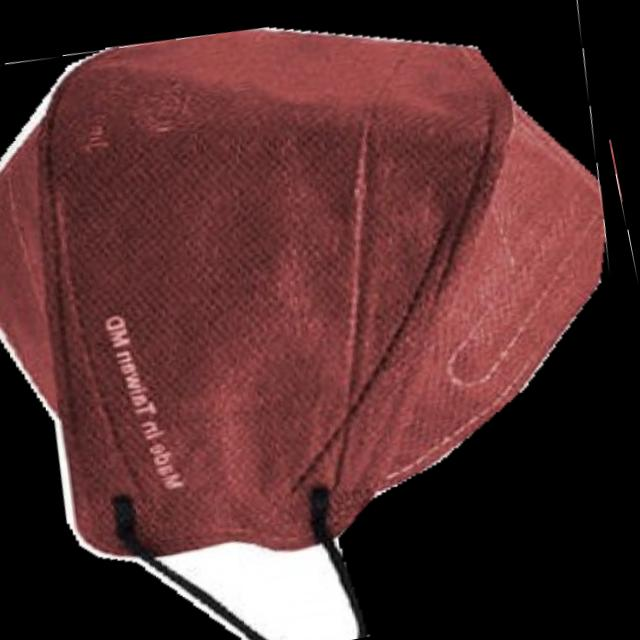others: (0, 22, 609, 640)
